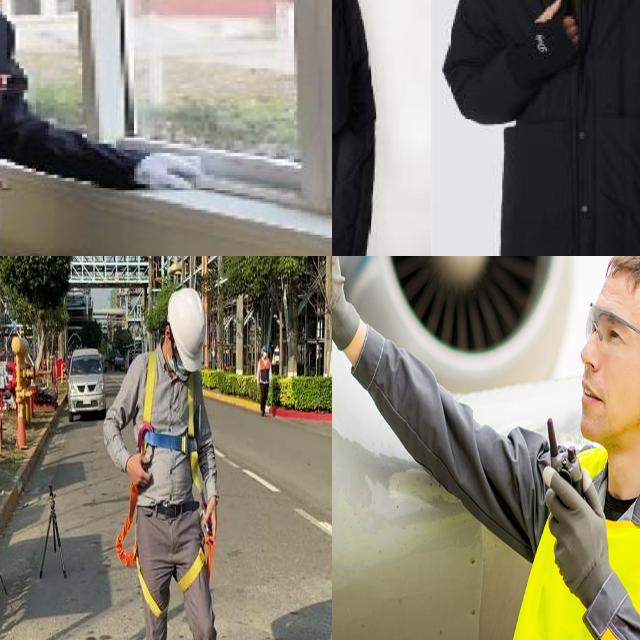Harness: (115, 491, 216, 618), (138, 352, 201, 492)
glasses: (582, 301, 640, 354)
hand_glove: (544, 458, 604, 602), (121, 140, 210, 192), (522, 0, 580, 76), (332, 256, 367, 352)
person: (332, 256, 640, 640), (454, 0, 640, 256), (0, 0, 96, 256)
vest: (529, 427, 640, 640)
